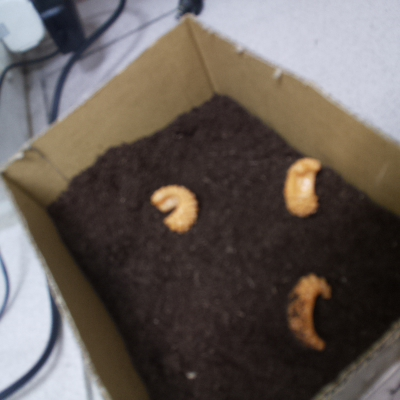eggs: (282, 266, 337, 357), (279, 154, 327, 222), (148, 180, 202, 235)
